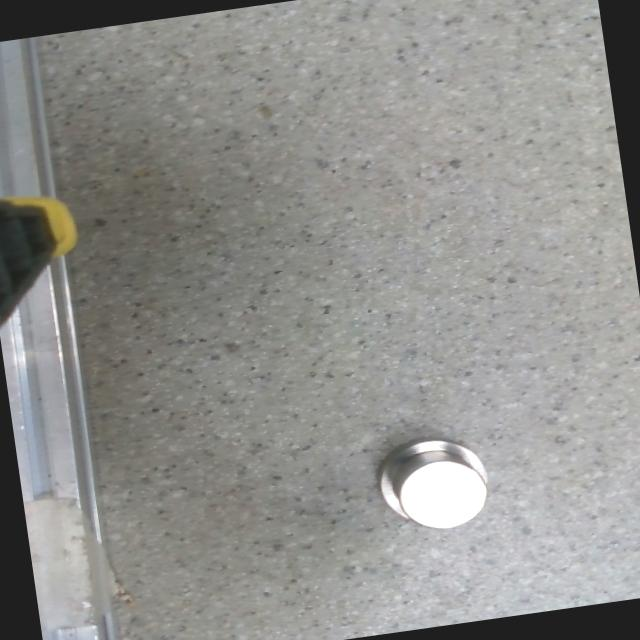sensor: (372, 430, 496, 540)
